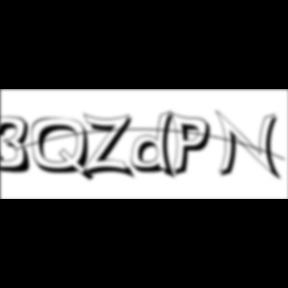3: (1, 116, 37, 176)
N: (215, 109, 285, 183)
P: (170, 110, 216, 180)
Q: (31, 117, 97, 184)
Z: (84, 112, 138, 181)
d: (131, 110, 181, 182)
